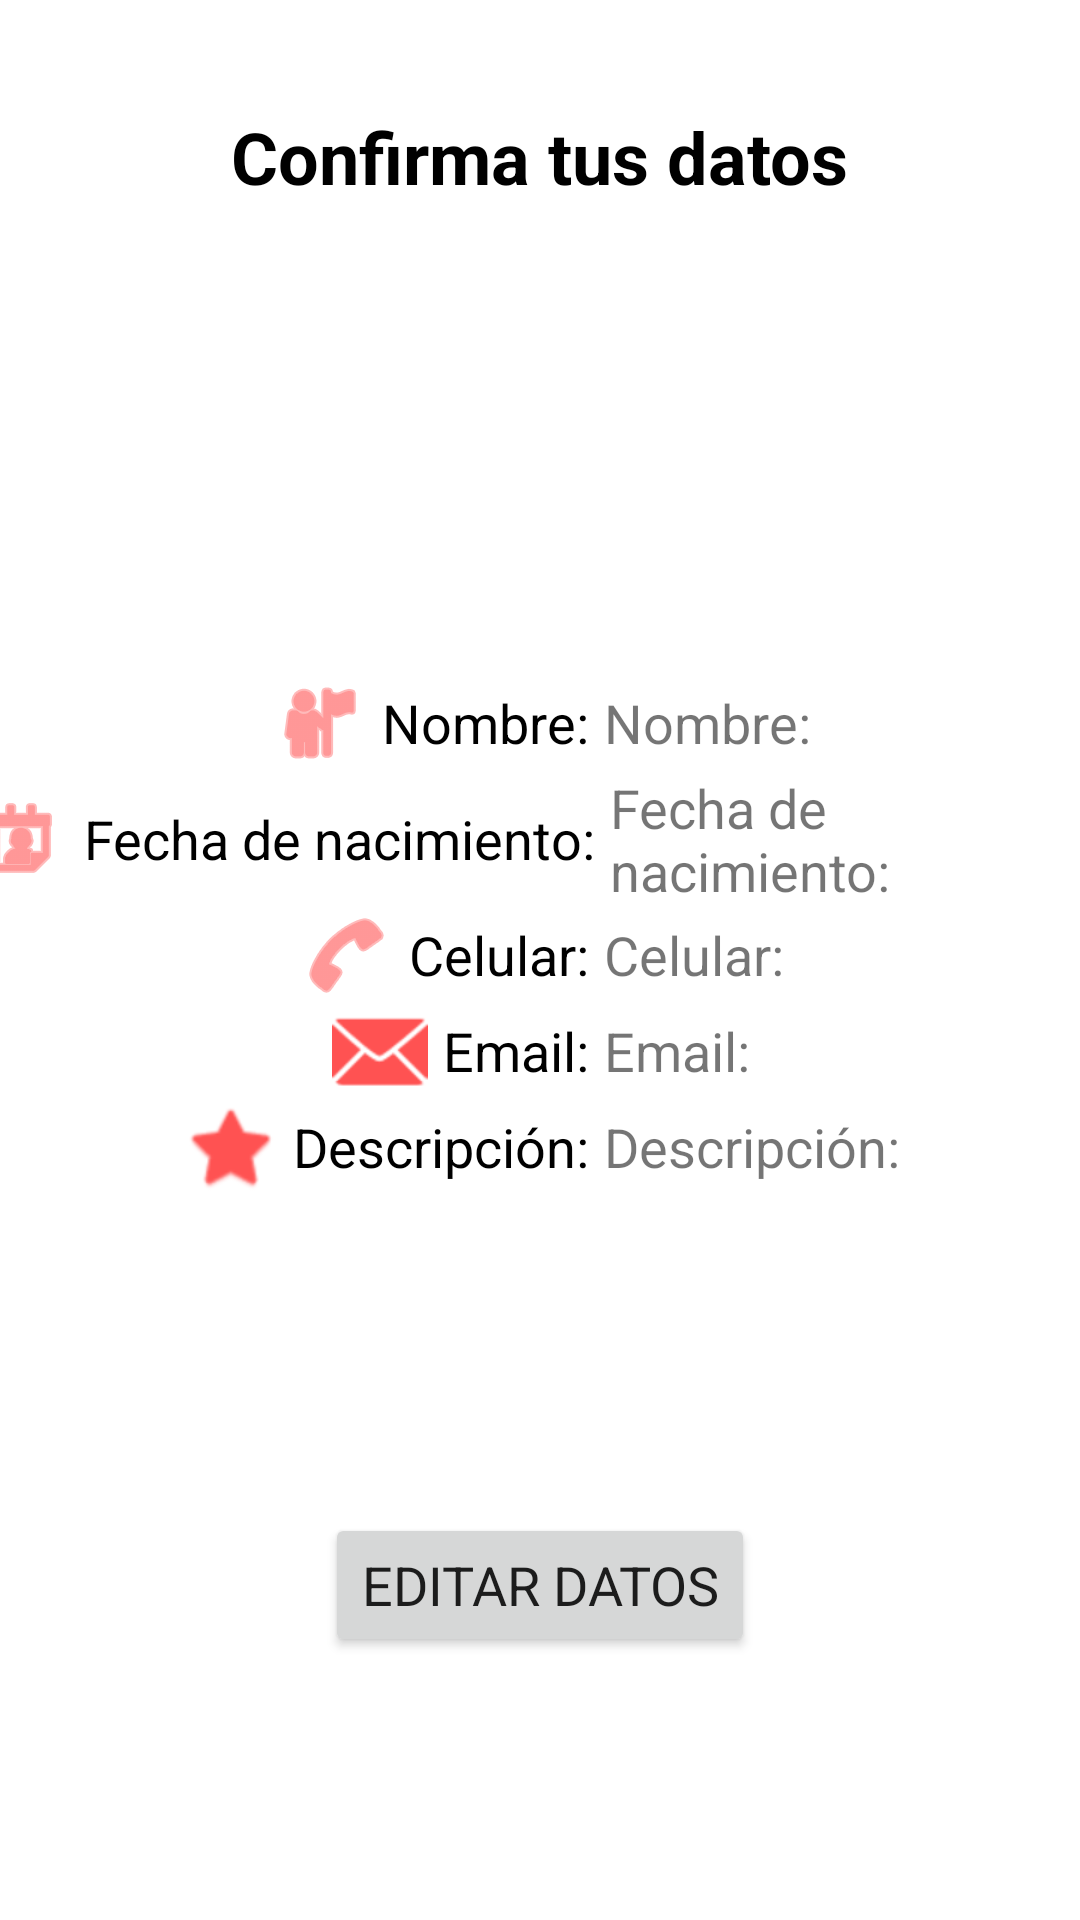

Icons on this 1080w x 1920h Android screen, each with its box as BBox(x1, y1, x2, y2):
call: BBox(309, 918, 384, 993)
star: BBox(191, 1109, 271, 1186)
